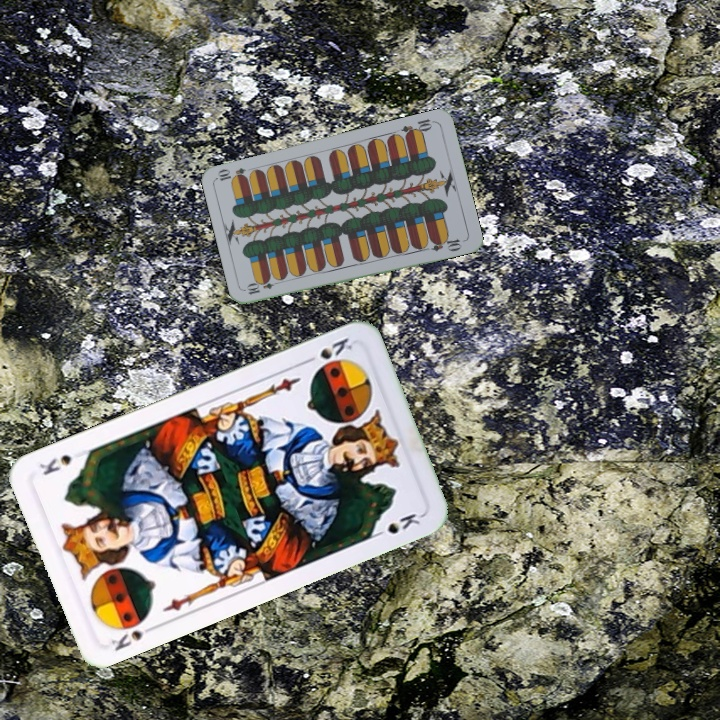E10: (397, 115, 438, 140), (243, 276, 283, 297)
SK: (300, 333, 355, 366), (107, 620, 159, 654)
